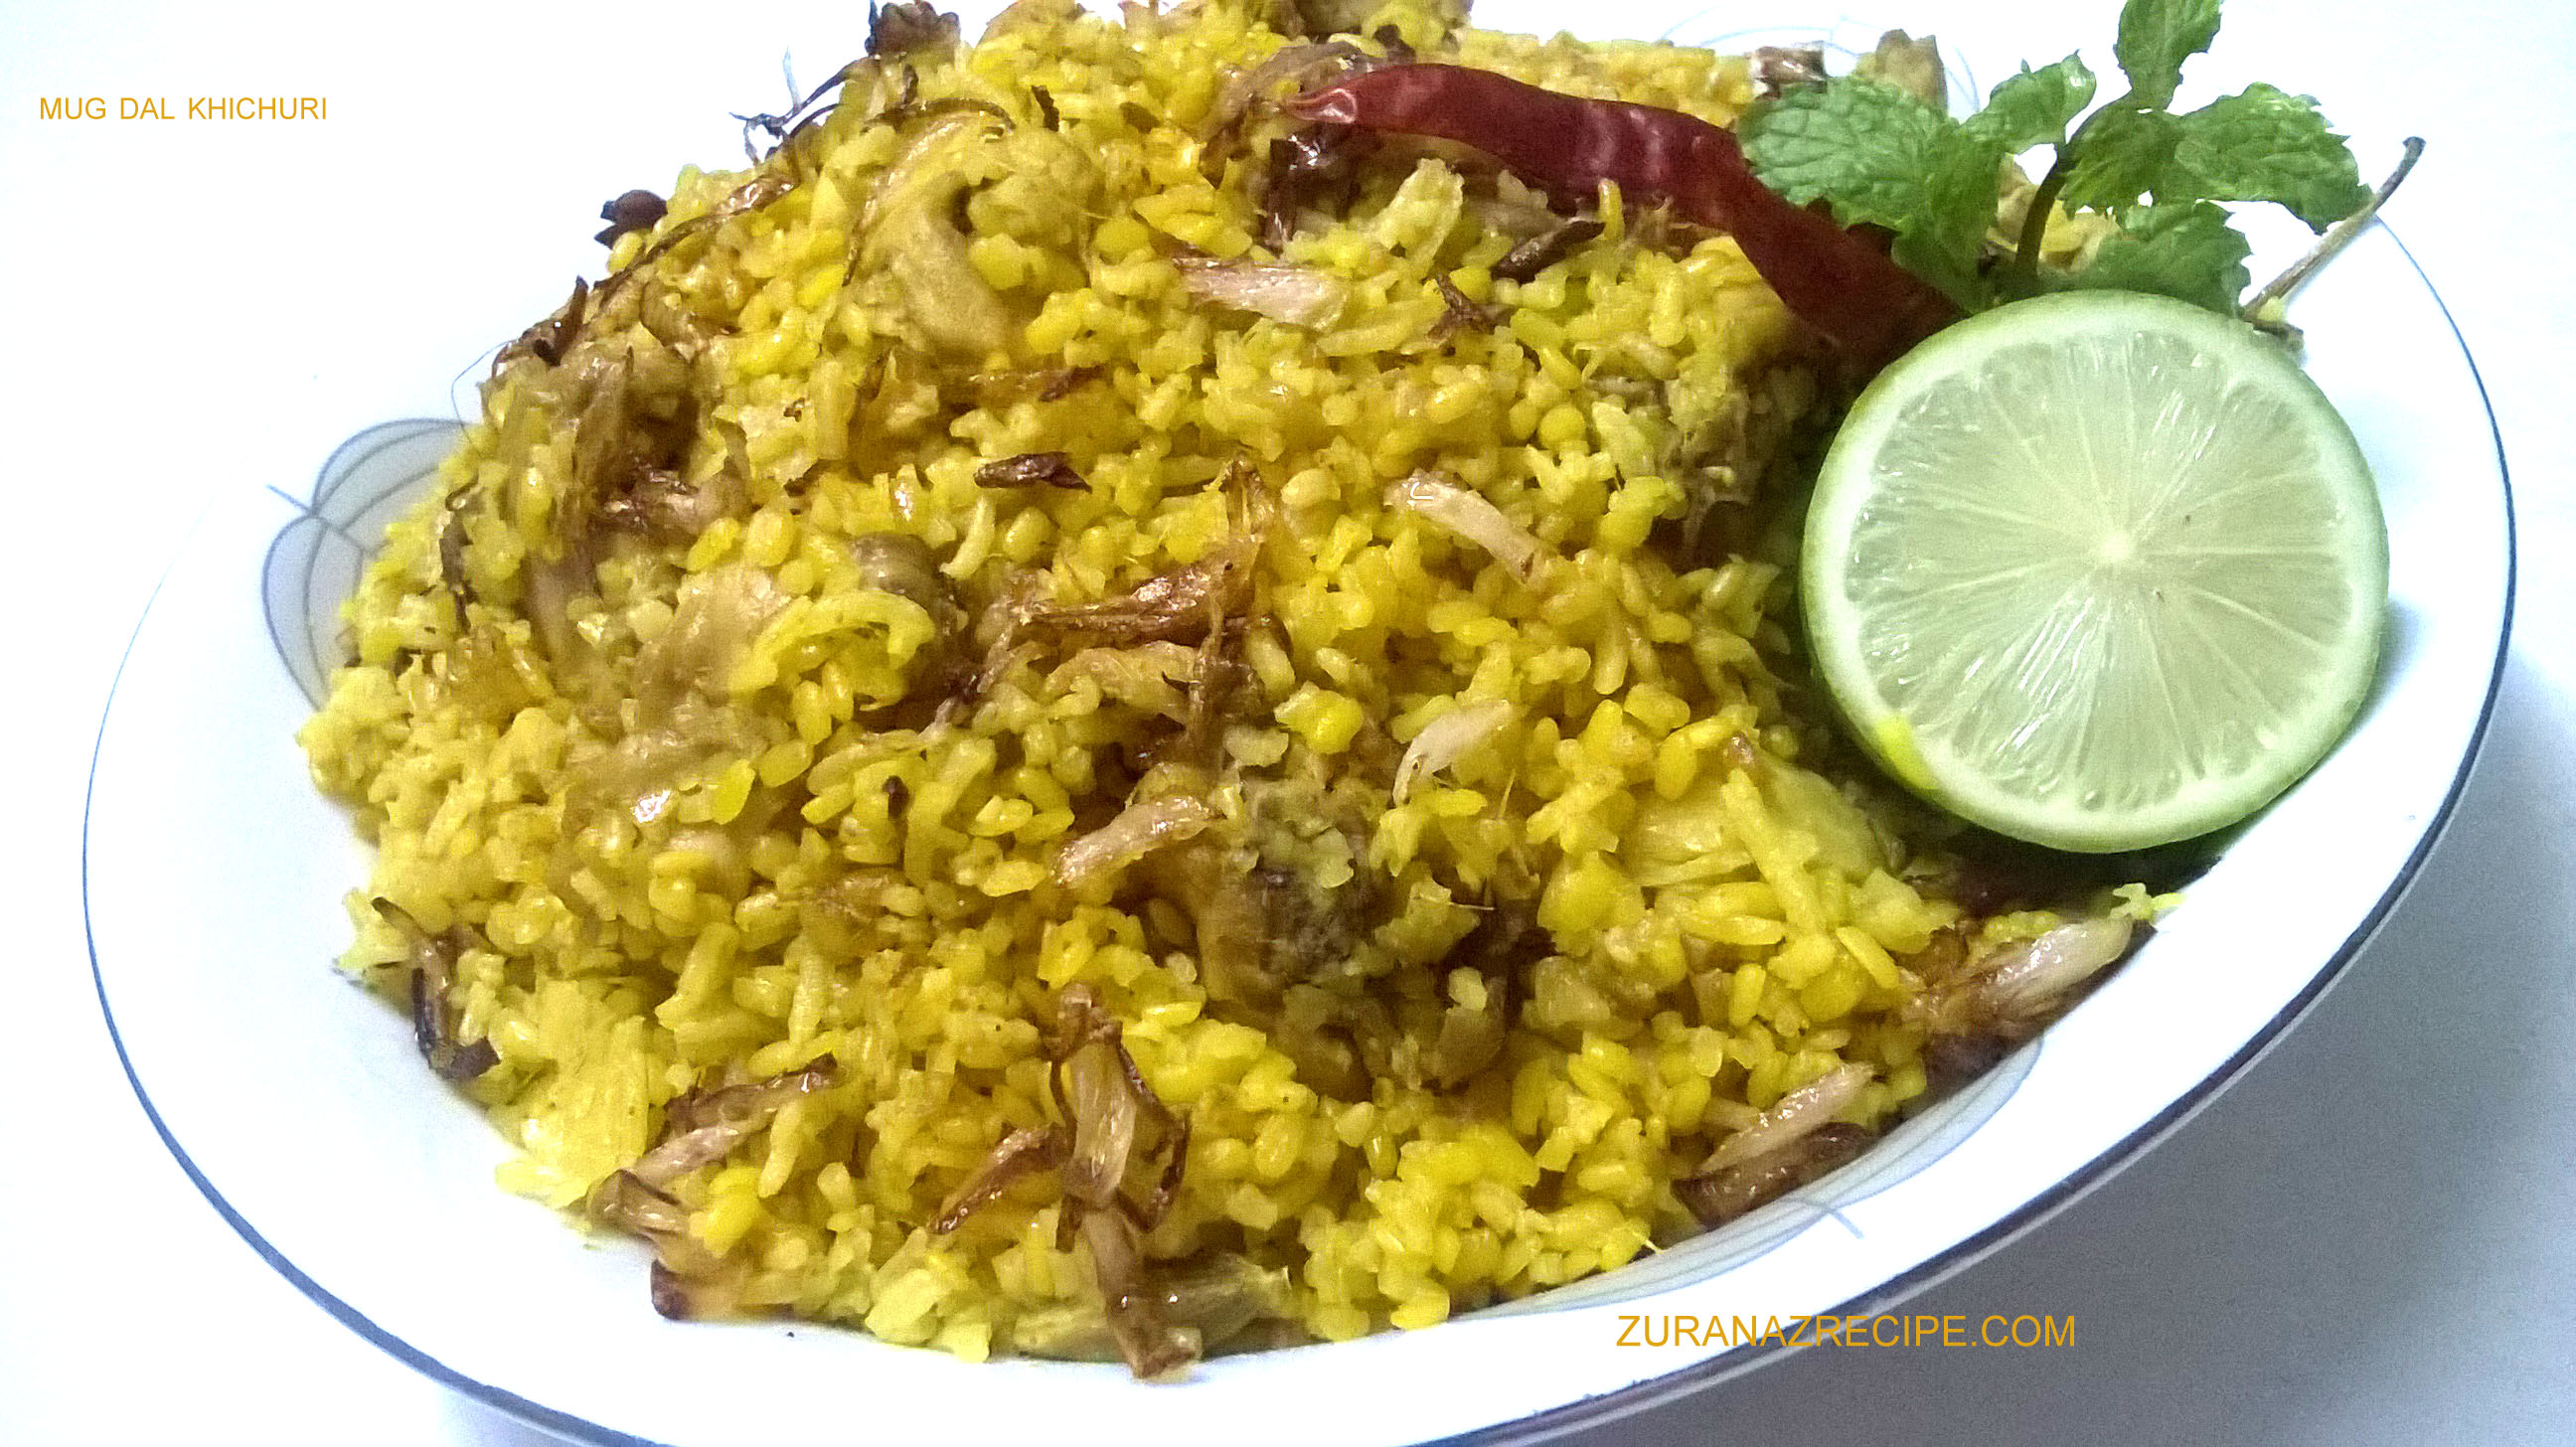khichuri: (379, 44, 1822, 1297)
